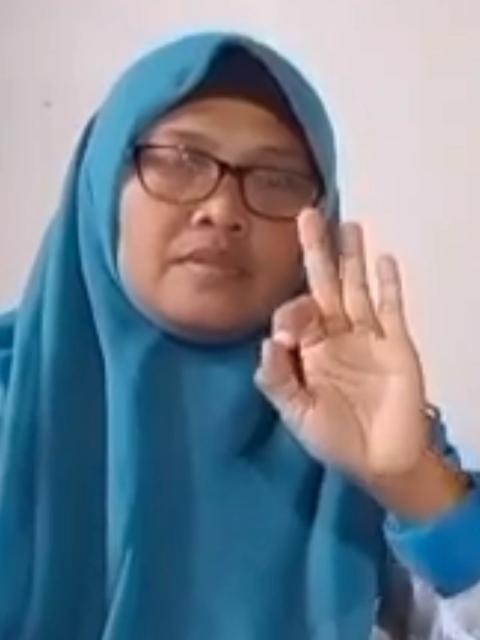F: (252, 207, 433, 486)
